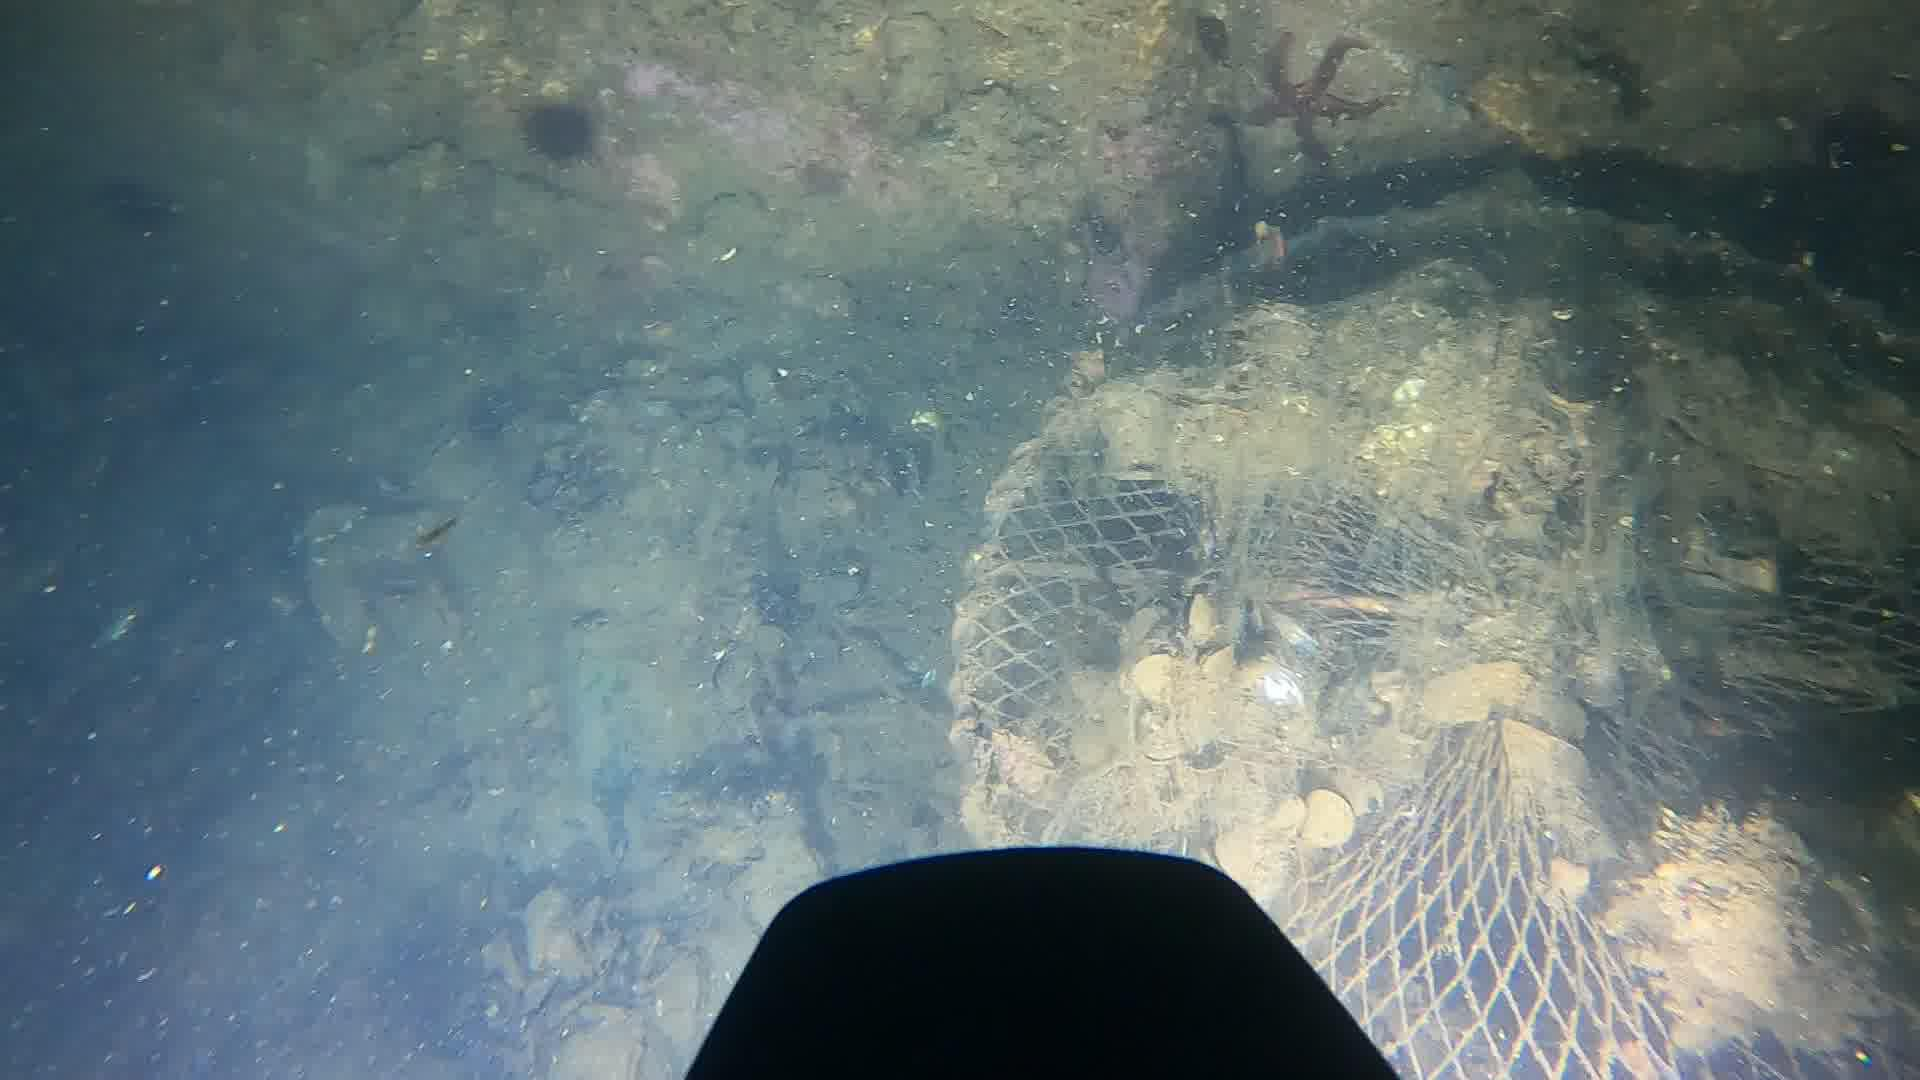circular fish trap: (948, 200, 1920, 1080)
